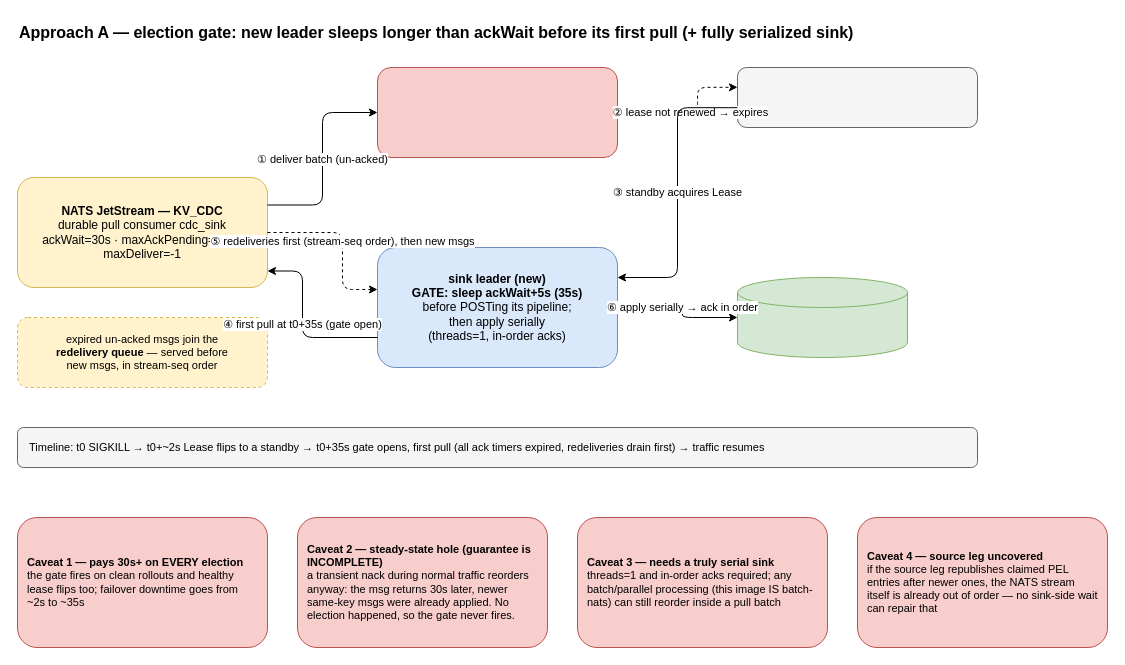
The diagram is 1125 pixels wide and 665 high, and some of its shapes have lost their labels. The centre of each missing label's shape, as x and y in pixels:
"K8s Lease lab-connect-sink-elector" belongs at (857,97).
"region Redis KV" belongs at (822,317).
"sink leader (old) ✖ SIGKILL at t0 holds an un-acked batch in flight" belongs at (497,112).
